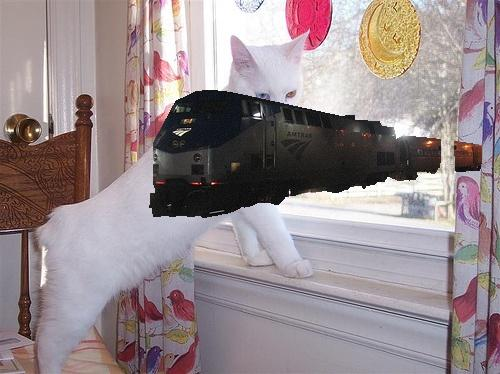tampered: (150, 91, 482, 218)
